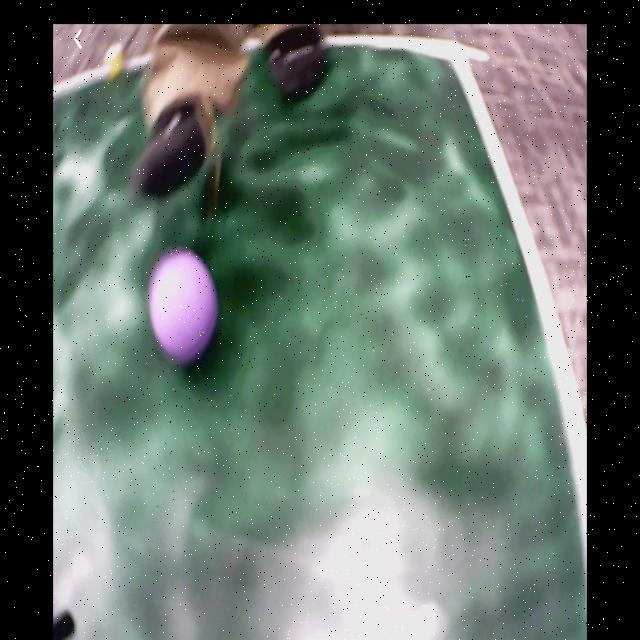ball: (152, 253, 218, 361)
